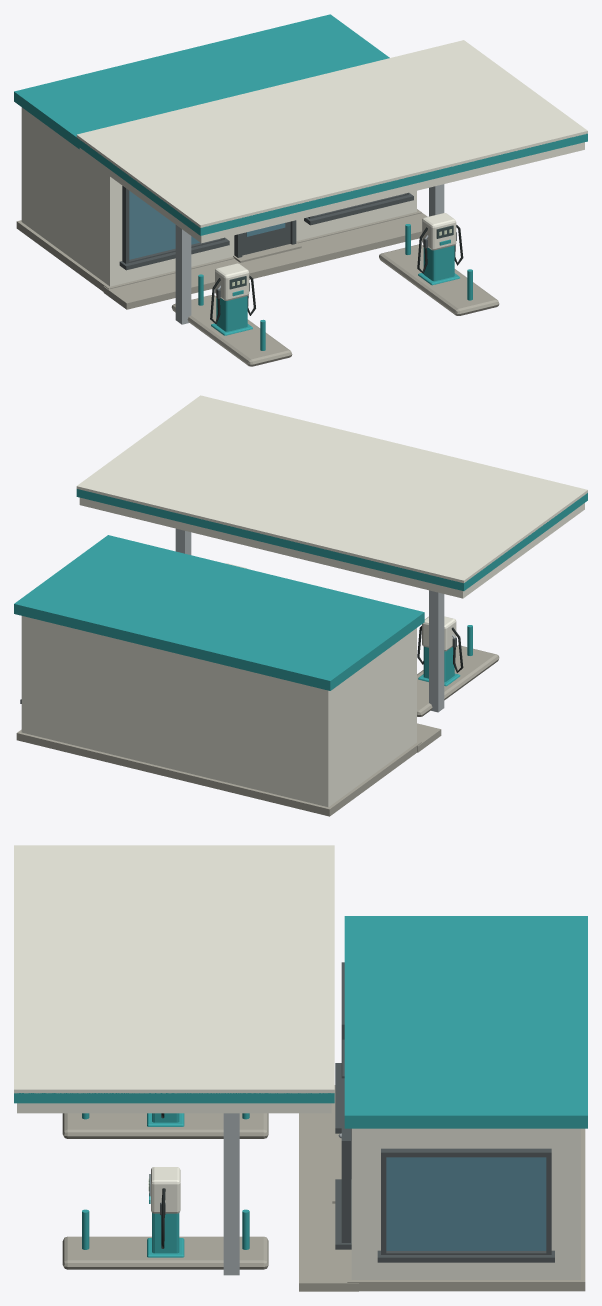
File: gas_station_modern.glb
The picture shows the model from 3 angles, top to bottom: view 1: azimuth 30°, elevation 25°; view 2: azimuth 150°, elevation 25°; view 3: azimuth 270°, elevation 25°; orthographic projection. The views are drawn at different scales.
Visible parts, largest first — view 1: Modern_Canopy_Top, Modern_Station_Store_Fascia, Modern_Station_Store, Modern_Station_Store_Walkway, Modern_Canopy_Fascia, Modern_Canopy_Roof, Modern_Pump_Island_1, Modern_Pump_Island_0, Modern_Station_Store_Window_-2.4_Glass, Modern_Station_Store_Foundation, Modern_Canopy_Post_0, Modern_Fuel_Pump_1_Lower_Body (+9 smaller); view 2: Modern_Canopy_Top, Modern_Station_Store, Modern_Station_Store_Fascia, Modern_Canopy_Fascia, Modern_Canopy_Roof, Modern_Station_Store_Foundation, Modern_Canopy_Post_0, Modern_Pump_Island_0, Modern_Fuel_Pump_0_Upper_Body; view 3: Modern_Canopy_Top, Modern_Station_Store_Fascia, Modern_Station_Store, Modern_Station_Store_Right_Window_Glass, Modern_Station_Store_Walkway, Modern_Pump_Island_1, Modern_Pump_Island_0, Modern_Station_Store_Foundation, Modern_Canopy_Fascia, Modern_Canopy_Roof, Modern_Canopy_Post_1, Modern_Station_Store_Right_Window_Horizontal_Frame_1 (+8 smaller).
Boxes of the visible parts, box(x1,y1,x2,y2) form: Modern_Canopy_Top: box(76, 40, 587, 227); Modern_Station_Store_Fascia: box(14, 14, 389, 149); Modern_Station_Store: box(21, 107, 416, 286); Modern_Station_Store_Walkway: box(103, 213, 427, 309); Modern_Canopy_Fascia: box(76, 133, 587, 235); Modern_Canopy_Roof: box(79, 142, 584, 243); Modern_Pump_Island_1: box(379, 244, 499, 315); Modern_Pump_Island_0: box(171, 295, 292, 366); Modern_Station_Store_Window_-2.4_Glass: box(129, 191, 199, 259); Modern_Station_Store_Foundation: box(16, 209, 421, 291); Modern_Canopy_Post_0: box(175, 225, 191, 324); Modern_Fuel_Pump_1_Lower_Body: box(423, 245, 454, 281); Modern_Canopy_Top: box(76, 395, 587, 583); Modern_Station_Store: box(21, 616, 416, 807); Modern_Station_Store_Fascia: box(14, 535, 424, 690); Modern_Canopy_Fascia: box(76, 489, 587, 591); Modern_Canopy_Roof: box(79, 497, 584, 598); Modern_Station_Store_Foundation: box(16, 729, 421, 816); Modern_Canopy_Post_0: box(429, 590, 444, 712); Modern_Pump_Island_0: box(417, 645, 499, 716); Modern_Fuel_Pump_0_Upper_Body: box(422, 616, 456, 651); Modern_Canopy_Top: box(14, 845, 334, 1093); Modern_Station_Store_Fascia: box(344, 916, 587, 1128); Modern_Station_Store: box(351, 1128, 580, 1279); Modern_Station_Store_Right_Window_Glass: box(386, 1157, 546, 1250); Modern_Station_Store_Walkway: box(299, 1085, 358, 1291); Modern_Pump_Island_1: box(62, 1236, 268, 1269); Modern_Pump_Island_0: box(62, 1113, 268, 1138); Modern_Station_Store_Foundation: box(347, 1128, 585, 1291); Modern_Canopy_Fascia: box(14, 1093, 334, 1103); Modern_Canopy_Roof: box(17, 1103, 331, 1113); Modern_Canopy_Post_1: box(223, 1113, 239, 1275); Modern_Station_Store_Right_Window_Horizontal_Frame_1: box(381, 1148, 551, 1157).
Bounding box in the file's own units: 10.1 × 4.34 × 10.02.
